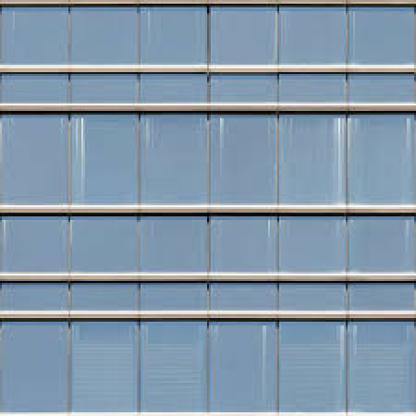window: (214, 118, 272, 198), (216, 326, 272, 408), (285, 325, 340, 407), (355, 118, 410, 200), (9, 119, 63, 202), (7, 327, 63, 407), (78, 326, 131, 408), (148, 327, 201, 409), (148, 118, 200, 200), (286, 118, 338, 198), (357, 329, 410, 407), (81, 118, 126, 200), (214, 9, 274, 59), (285, 11, 342, 59), (353, 13, 411, 59), (78, 220, 131, 268), (146, 13, 202, 57), (148, 222, 201, 268), (216, 224, 270, 268), (10, 222, 58, 268), (286, 222, 336, 266), (78, 15, 131, 55), (357, 224, 407, 266), (7, 17, 56, 59), (216, 78, 274, 98), (218, 286, 272, 307), (80, 286, 133, 307), (285, 78, 338, 98), (357, 78, 410, 98), (148, 78, 200, 98), (284, 288, 336, 307), (148, 287, 200, 305), (81, 79, 130, 98), (356, 290, 408, 307), (9, 81, 59, 98), (11, 288, 54, 307)
